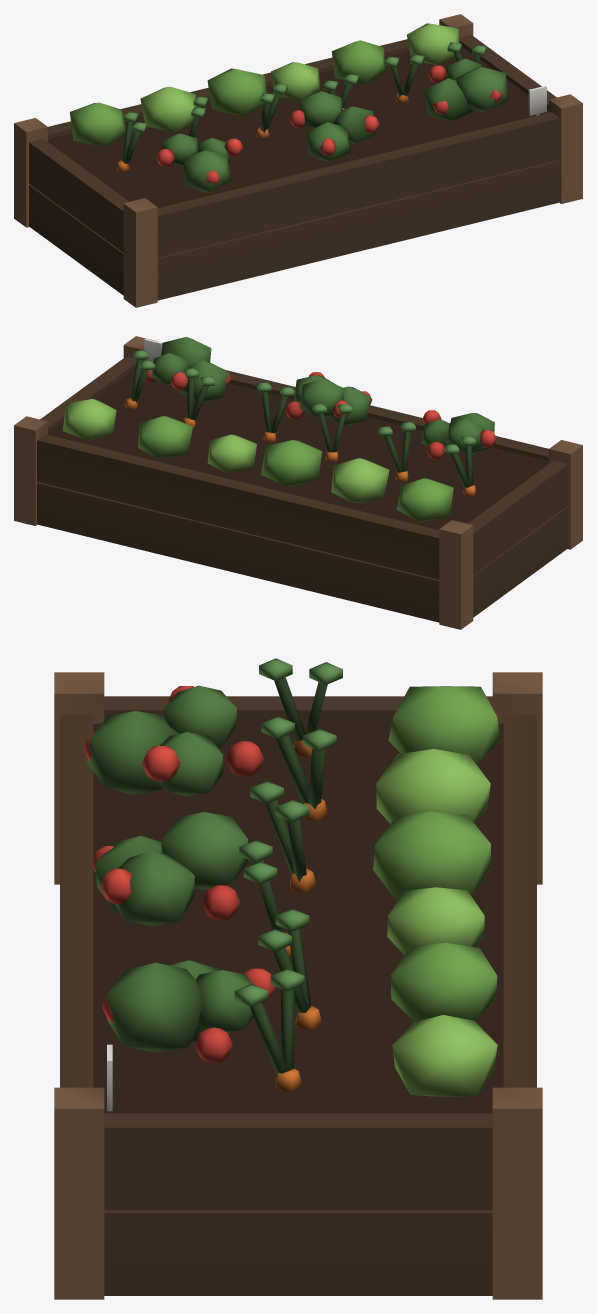
File: raisedBed.far.glb
The picture shows the model from 3 angles, top to bottom: view 1: azimuth 30°, elevation 25°; view 2: azimuth 150°, elevation 25°; view 3: azimuth 270°, elevation 25°; orthographic projection. The views are drawn at different scales.
Parts seen in each view (by area): view 1: raisedBed; view 2: raisedBed; view 3: raisedBed.
Part boxes in pixels (x1,y1,x2,y2): raisedBed: [14, 14, 582, 307]; raisedBed: [14, 336, 582, 629]; raisedBed: [54, 658, 542, 1299].
Bounding box in the file's own units: 1.86 × 0.5361 × 0.88.
